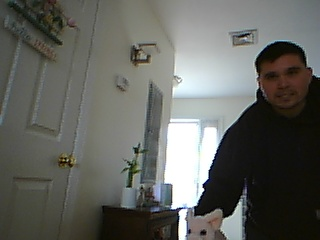piggy: (182, 207, 228, 240)
